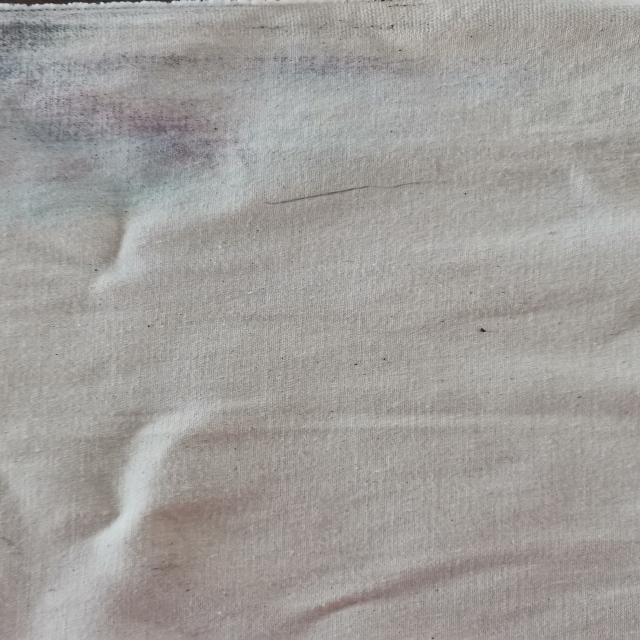taaaches: (7, 2, 581, 228)
